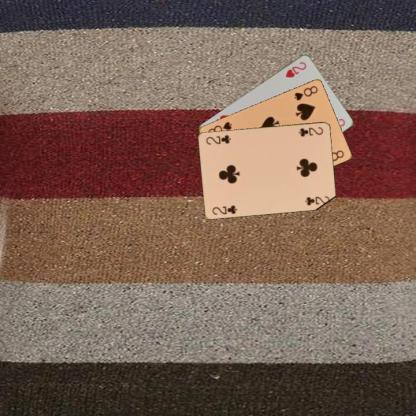2c: (210, 202, 238, 216), (297, 124, 324, 138)
2h: (283, 59, 307, 79)
8s: (291, 82, 319, 102)
